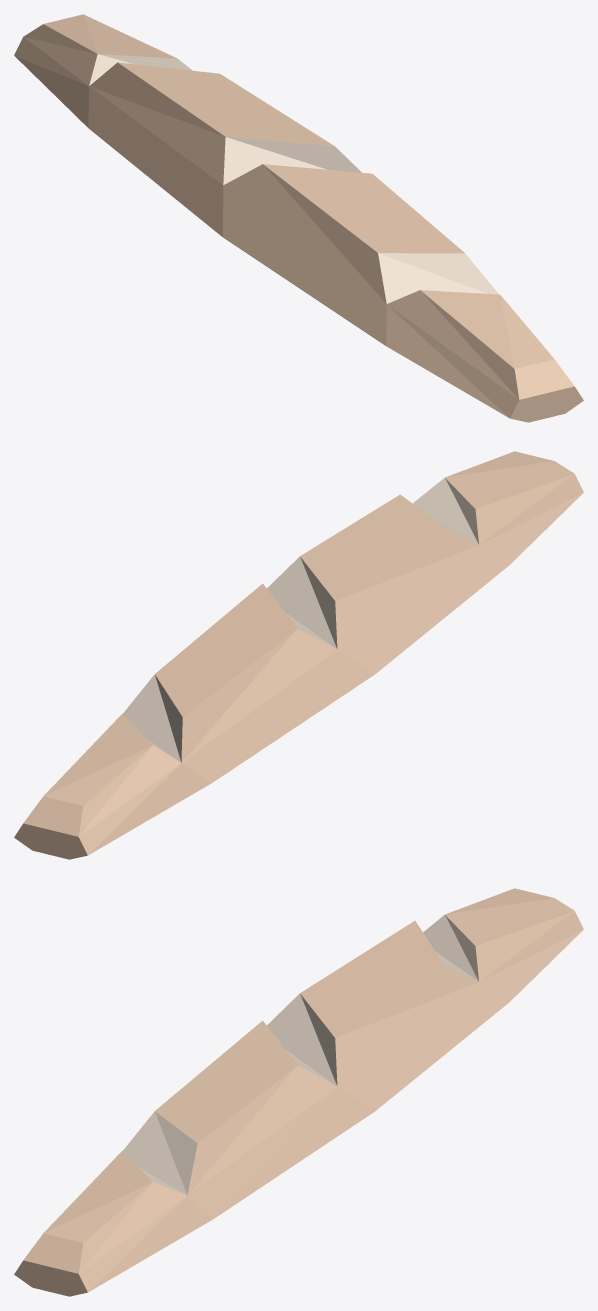
The model's file is Baguette.fbx.
3 renders of one model, top to bottom at view 1: azimuth 30°, elevation 25°; view 2: azimuth 150°, elevation 25°; view 3: azimuth 330°, elevation 25°, orthographic.
Visible parts, largest first — view 1: Baguette; view 2: Baguette; view 3: Baguette.
Boxes of the visible parts, x1,y1,x2,y2 form: Baguette: (14,14,583,422); Baguette: (14,451,583,859); Baguette: (14,888,583,1296).
Size of the model in its own units: 0.1062 by 0.0543 by 0.6.
